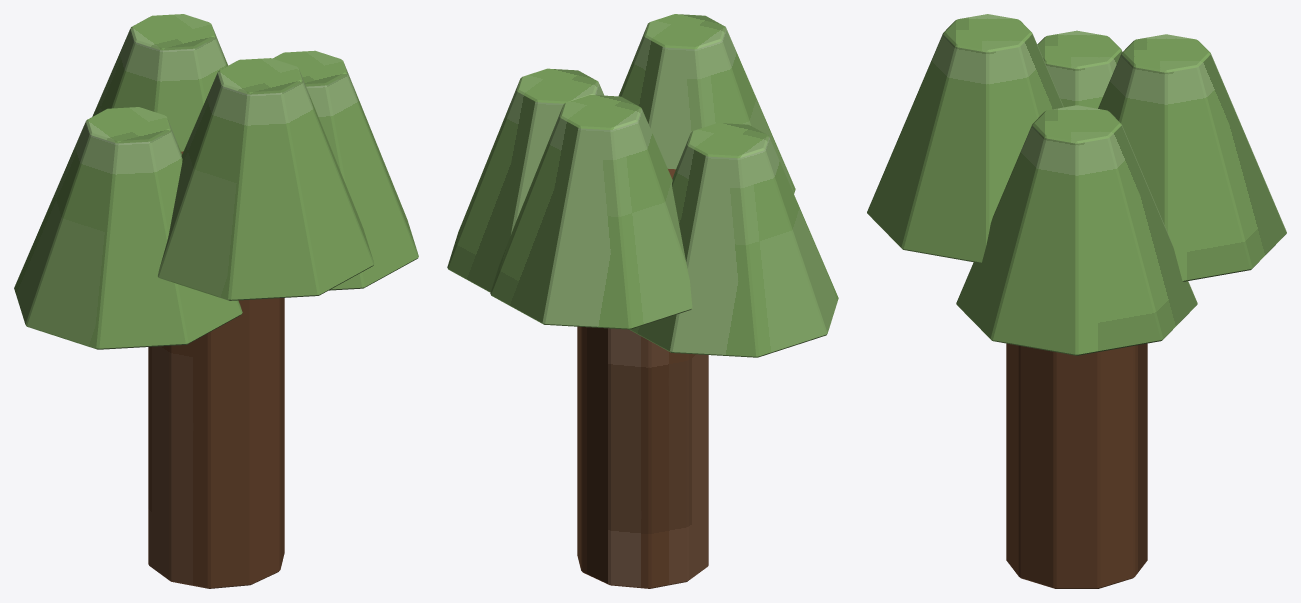
Rendered from giant_tree.glb.
3 views of the same model, side by side, from view 1: azimuth 30°, elevation 25°; view 2: azimuth 150°, elevation 25°; view 3: azimuth 270°, elevation 25° (orthographic). The views are drawn at different scales.
Visible parts, largest first — view 1: LeafCrown_2, Trunk, LeafCrown_0, LeafCrown_1, LeafCrown_3; view 2: LeafCrown_3, Trunk, LeafCrown_0, LeafCrown_2, LeafCrown_1; view 3: LeafCrown_1, Trunk, LeafCrown_2, LeafCrown_3, LeafCrown_0.
Boxes of the visible parts, x1,y1,x2,y2 form: LeafCrown_2: (158,58,374,300); Trunk: (148,151,284,588); LeafCrown_0: (14,107,242,349); LeafCrown_1: (273,50,418,290); LeafCrown_3: (92,14,228,151); LeafCrown_3: (490,95,692,329); Trunk: (577,169,708,588); LeafCrown_0: (629,123,838,357); LeafCrown_2: (618,14,795,193); LeafCrown_1: (447,68,604,292); LeafCrown_1: (956,105,1197,355); Trunk: (1006,343,1147,588); LeafCrown_2: (867,14,1063,263); LeafCrown_3: (1098,34,1286,281); LeafCrown_0: (1037,30,1122,108).
Size of the model in its own units: 3.02 by 3.93 by 2.82.
1 material, 1 textured.
